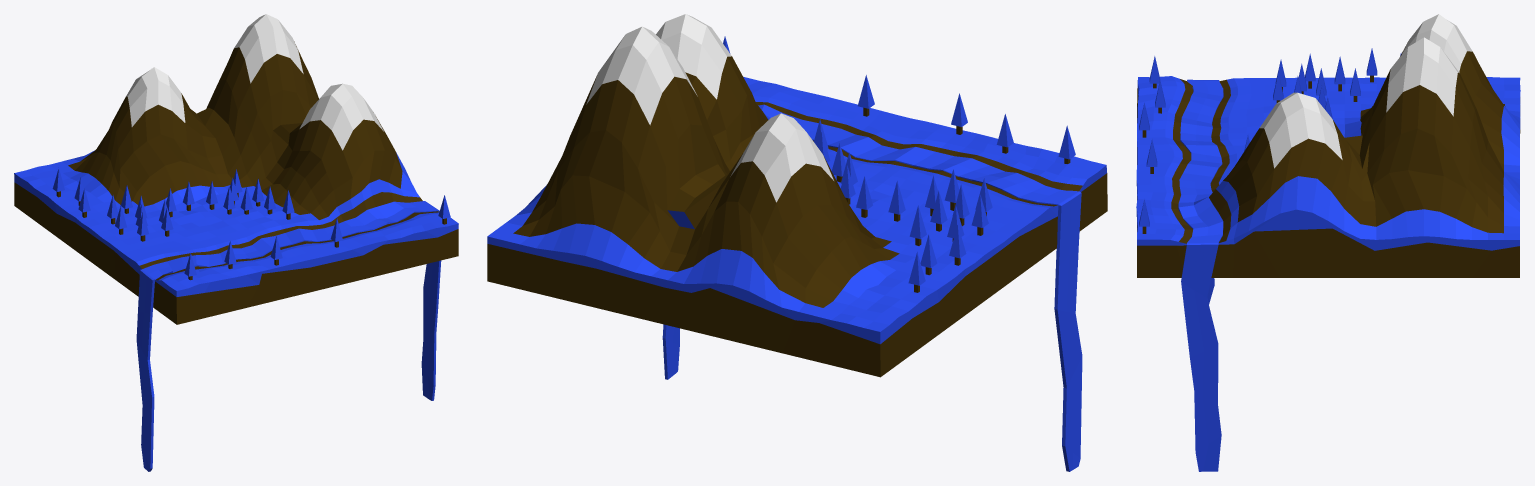
Rendered from Mountain_Landscape.glb.
3 views of the same model, side by side, from view 1: azimuth 30°, elevation 25°; view 2: azimuth 150°, elevation 25°; view 3: azimuth 270°, elevation 25° (orthographic). The views are drawn at different scales.
Parts seen in each view (by area): view 1: Mountain_Material.006_0, Grass_Material_0, Ground_Material.007_0, Watter_Material.005_0, Snow_Material.003_0, Trunk_Material.001_0, Mud_Material.004_0, Trunk_Trunk_0; view 2: Mountain_Material.006_0, Grass_Material_0, Ground_Material.007_0, Watter_Material.005_0, Snow_Material.003_0, Trunk_Material.001_0, Mud_Material.004_0, Trunk_Trunk_0; view 3: Mountain_Material.006_0, Grass_Material_0, Ground_Material.007_0, Watter_Material.005_0, Snow_Material.003_0, Mud_Material.004_0, Trunk_Material.001_0.
Part boxes in pixels (x1,y1,x2,y2): Mountain_Material.006_0: (68, 41, 402, 219); Grass_Material_0: (14, 150, 458, 296); Ground_Material.007_0: (14, 182, 458, 324); Watter_Material.005_0: (136, 201, 441, 471); Snow_Material.003_0: (126, 14, 383, 150); Trunk_Material.001_0: (52, 168, 450, 276); Mud_Material.004_0: (139, 192, 439, 280); Trunk_Trunk_0: (56, 191, 446, 280); Mountain_Material.006_0: (513, 56, 899, 307); Grass_Material_0: (487, 77, 1106, 344); Ground_Material.007_0: (487, 173, 1107, 377); Watter_Material.005_0: (662, 104, 1082, 471); Snow_Material.003_0: (586, 14, 833, 202); Trunk_Material.001_0: (723, 36, 1075, 285); Mud_Material.004_0: (755, 102, 1082, 206); Trunk_Trunk_0: (836, 107, 1070, 292); Mountain_Material.006_0: (1223, 42, 1505, 233); Grass_Material_0: (1136, 76, 1520, 250); Ground_Material.007_0: (1137, 88, 1520, 277); Watter_Material.005_0: (1178, 79, 1223, 471); Snow_Material.003_0: (1259, 14, 1472, 168); Mud_Material.004_0: (1171, 79, 1231, 243); Trunk_Material.001_0: (1139, 48, 1401, 226).
Bounding box in the file's own units: 409 × 453 × 401.
